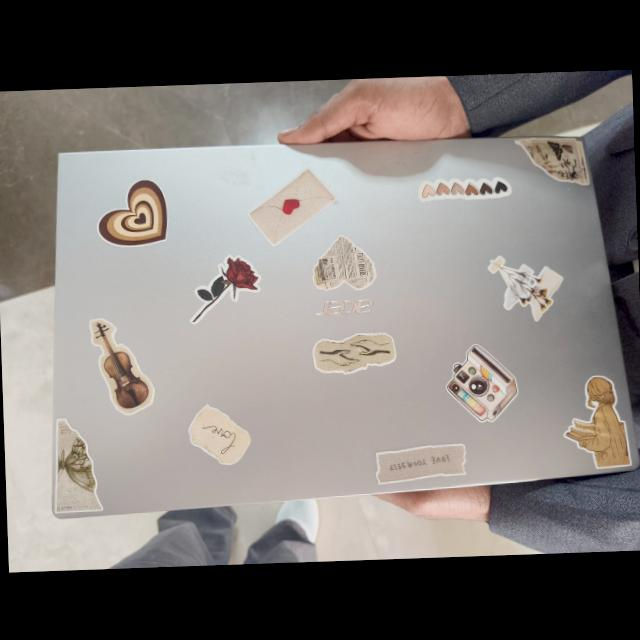laptop: (11, 107, 640, 524)
